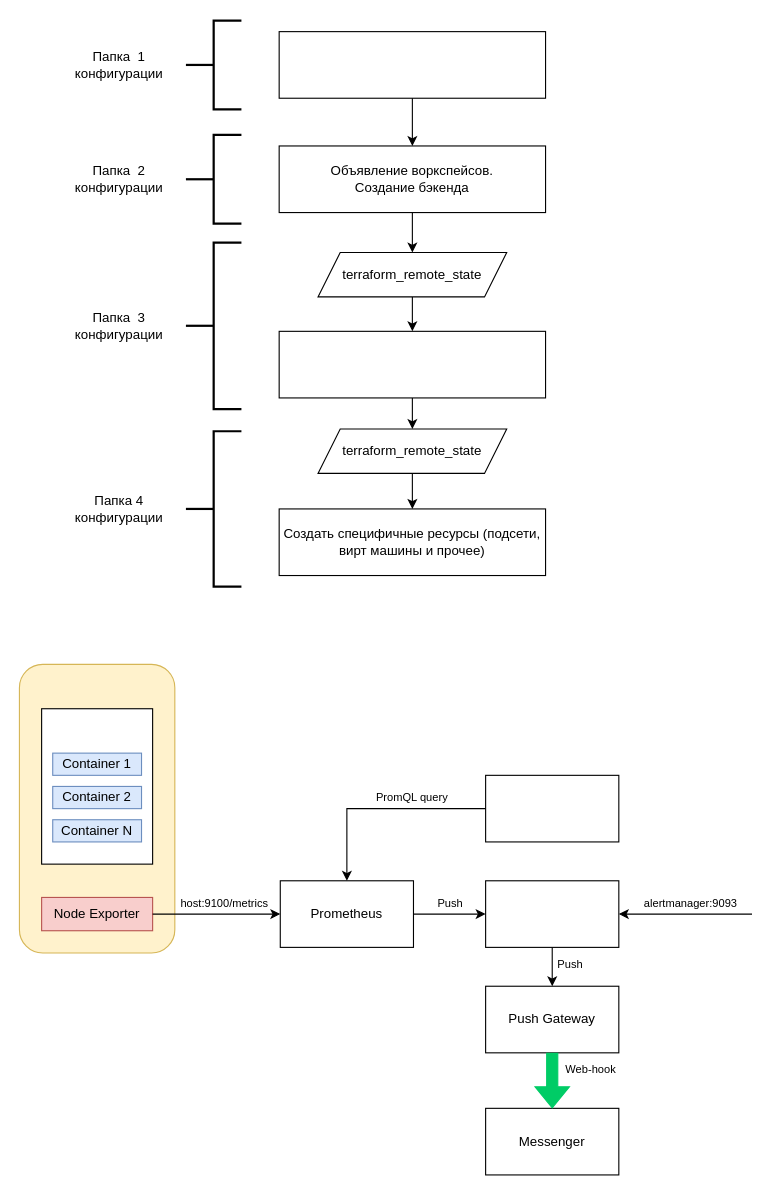
Image size: 780x1194. Some labels were removed from this diagram. The box of each missing label's shape, as (x1, y1, x2, y2) in pixels:
Alert Manager: (485, 880, 619, 947)
Docker Engine: (41, 708, 153, 864)
Grafana: (485, 774, 619, 842)
OS: (18, 663, 175, 953)
Создание общие базовые ресурсы (каталог, сервисные аккаунты, ключи, бакеты): (278, 31, 546, 98)
Создать общие ресурсы (сети): (278, 330, 546, 398)
